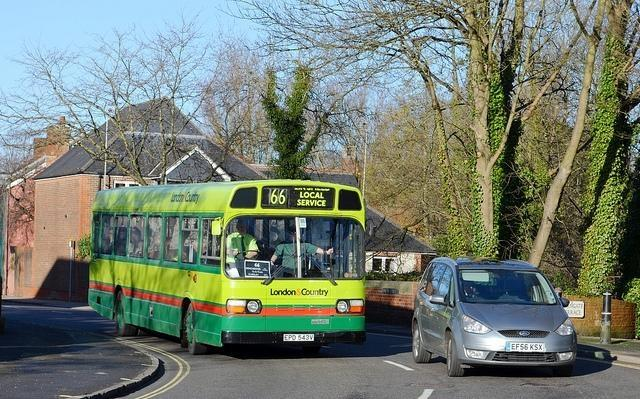bus: (85, 184, 363, 358)
car: (410, 257, 576, 381)
